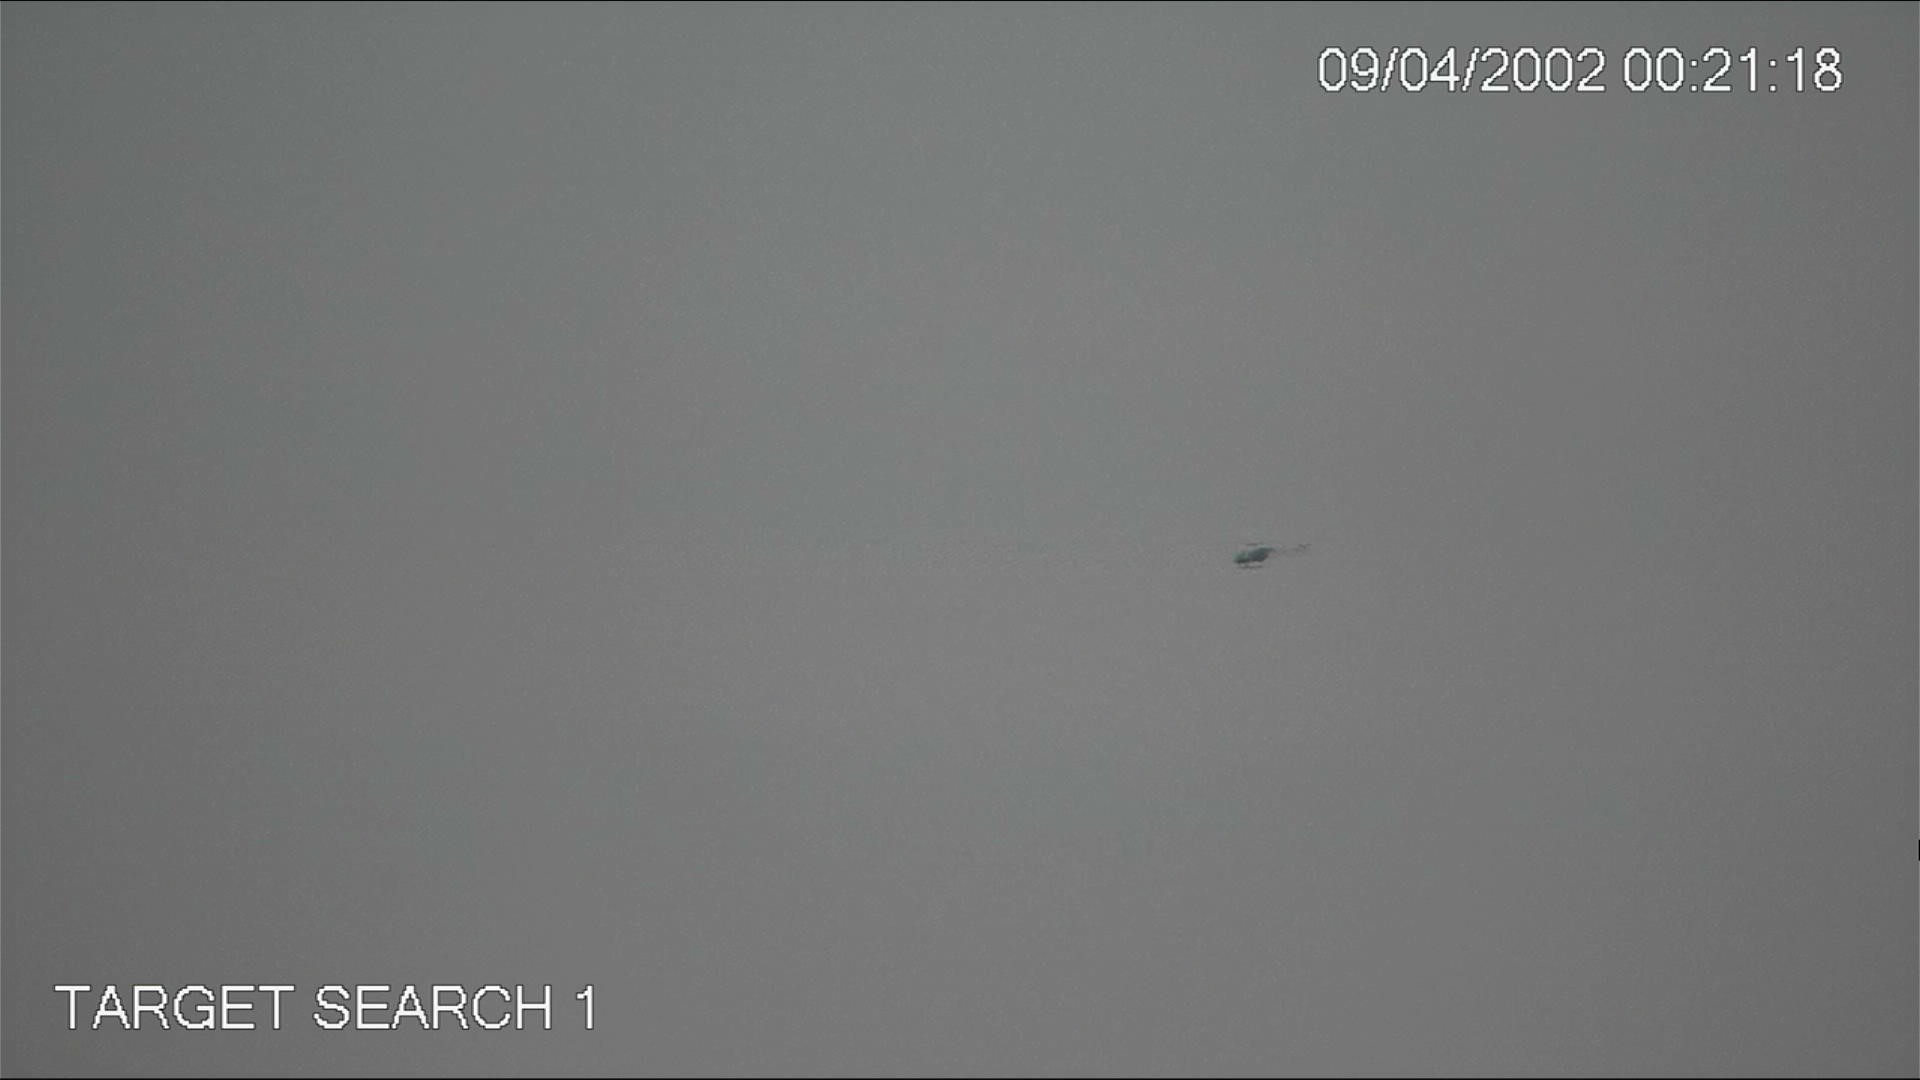SU_30: (1230, 543, 1280, 571)
